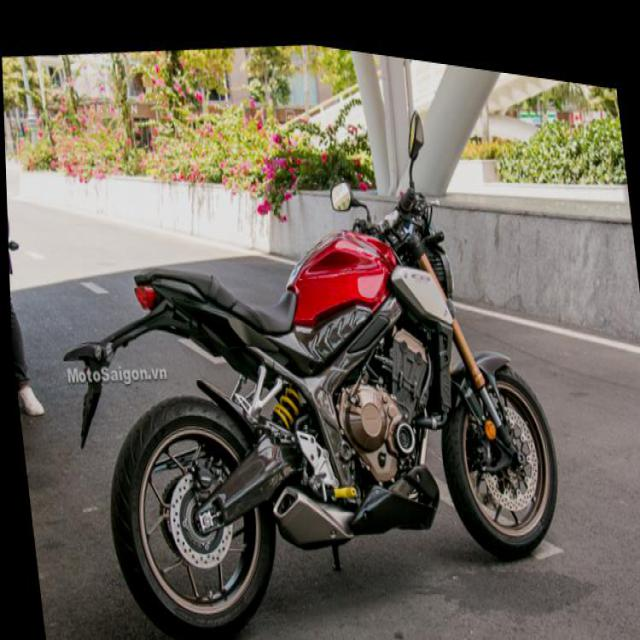CB650R: (66, 132, 577, 639)
